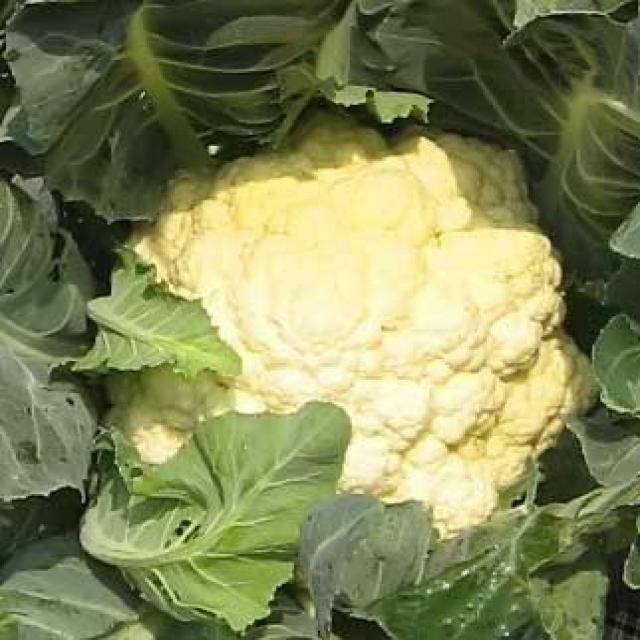cauliflower: (95, 114, 640, 620)
